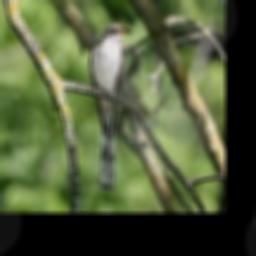Cuckoo: (90, 24, 133, 190)
